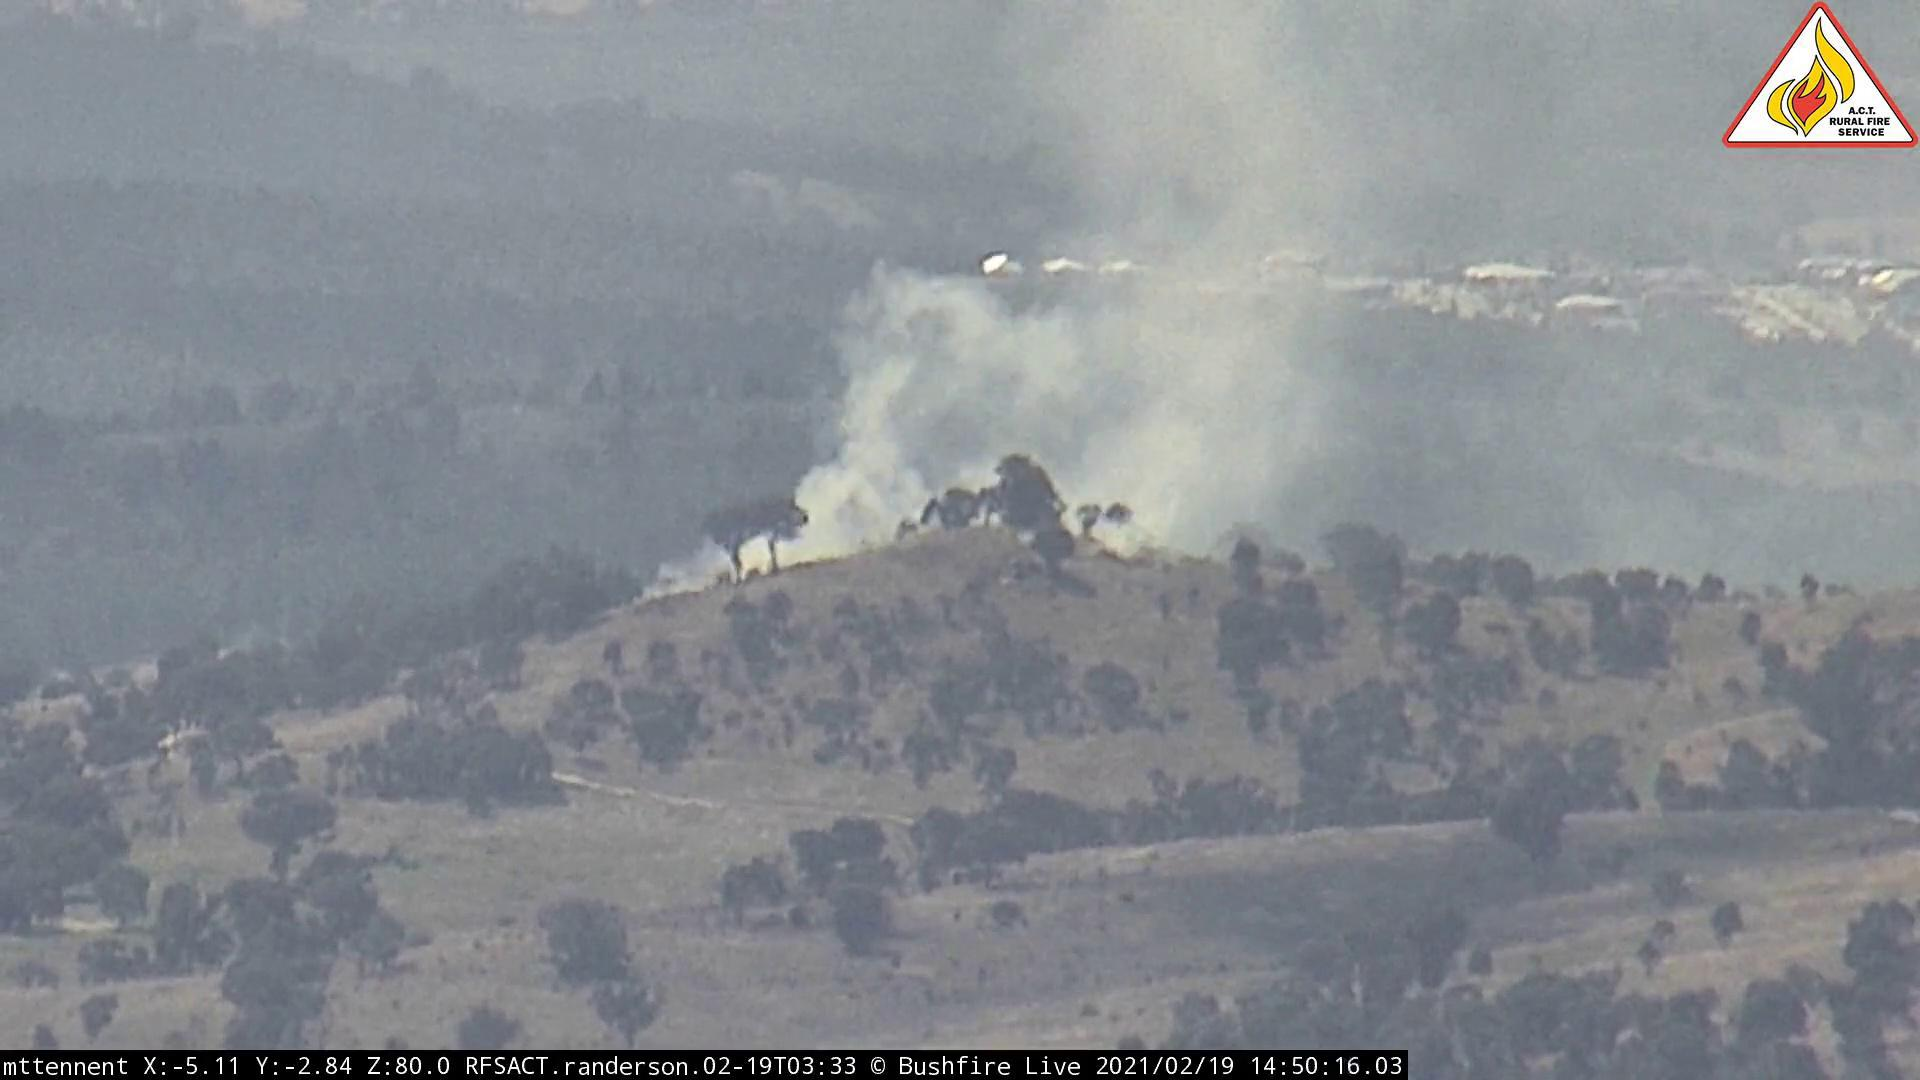Smoke: (625, 3, 1526, 612)
